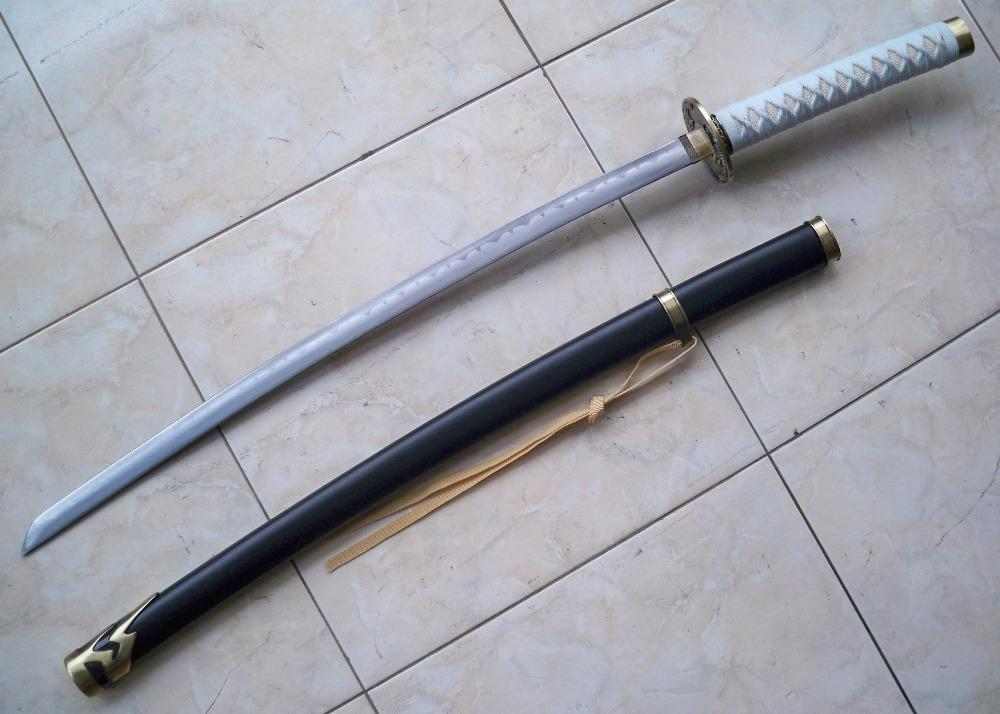espada: (0, 12, 1000, 587)
